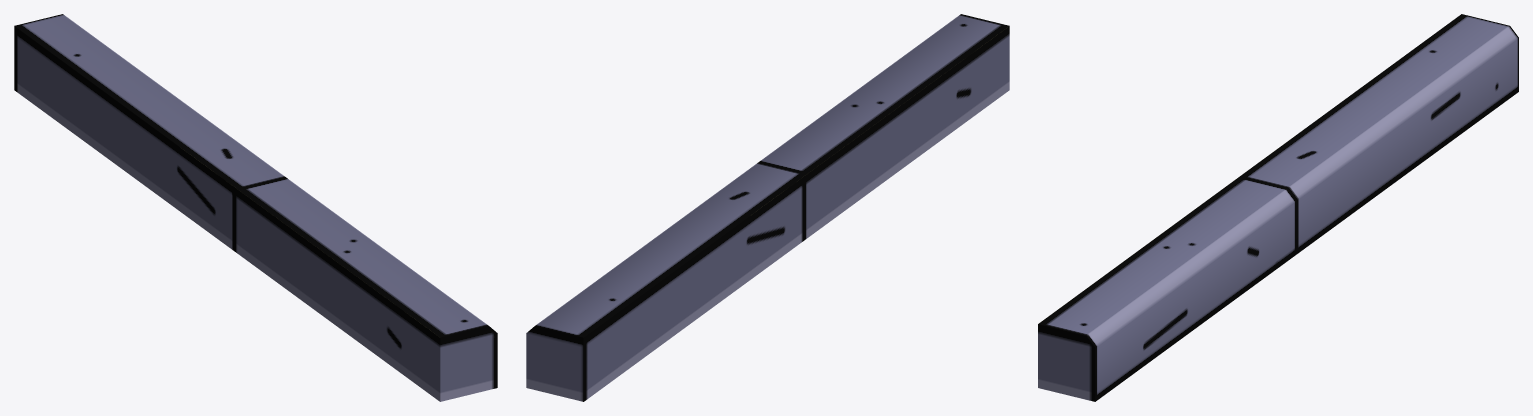
The model's file is half_curb.fbx.
3 views of the same model, side by side, from view 1: azimuth 30°, elevation 25°; view 2: azimuth 150°, elevation 25°; view 3: azimuth 330°, elevation 25° (orthographic).
Visible parts, largest first — view 1: half_curb; view 2: half_curb; view 3: half_curb.
Boxes of the visible parts, left/top/right/bottom form: half_curb: left=14, top=14, right=497, bottom=401; half_curb: left=526, top=14, right=1009, bottom=401; half_curb: left=1038, top=14, right=1518, bottom=401.
Size of the model in its own units: 19.5 by 20.82 by 250.
